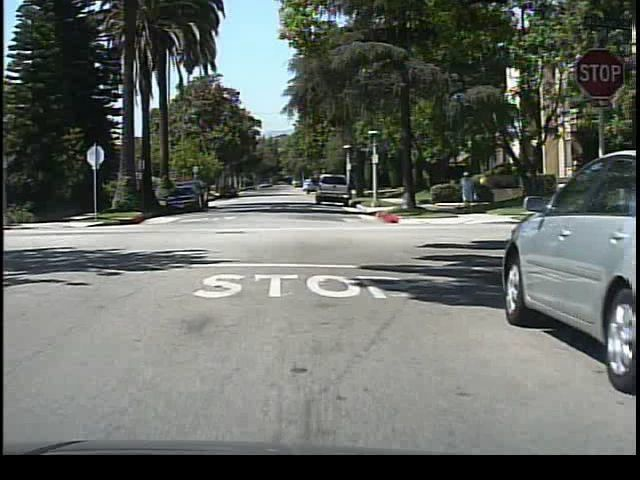person: (456, 168, 476, 215)
